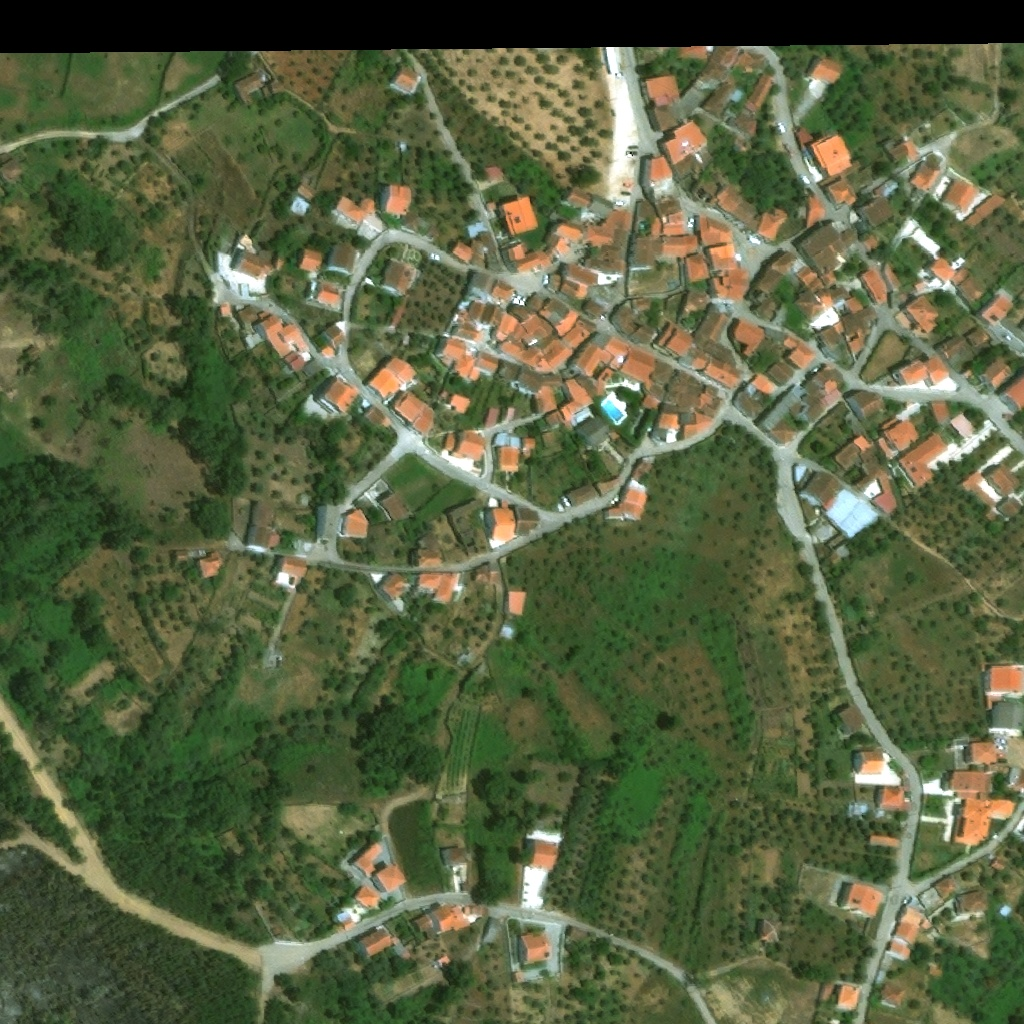0 no-damage: (820, 486, 884, 545), (252, 313, 312, 375), (327, 195, 389, 244), (951, 800, 1015, 847), (802, 133, 862, 183), (895, 433, 946, 490), (689, 310, 736, 369), (792, 225, 841, 278), (853, 460, 900, 515), (658, 120, 709, 168), (752, 388, 803, 436), (795, 467, 847, 514), (669, 77, 716, 127), (730, 374, 777, 421), (495, 195, 541, 241), (893, 295, 940, 340), (978, 664, 1023, 710), (695, 41, 739, 88), (583, 243, 628, 288), (835, 881, 885, 921), (874, 416, 918, 461), (710, 186, 758, 227), (721, 317, 766, 360), (640, 157, 681, 204), (247, 501, 282, 554), (959, 194, 1005, 234), (670, 145, 716, 185), (499, 242, 553, 276), (318, 373, 360, 416), (936, 178, 977, 222), (557, 381, 595, 428), (973, 291, 1015, 331), (228, 248, 276, 283), (701, 355, 744, 393), (513, 928, 555, 966), (852, 195, 895, 232), (585, 211, 632, 244), (982, 462, 1022, 500), (699, 80, 738, 118), (830, 704, 870, 741), (792, 288, 833, 324), (781, 334, 818, 373), (469, 230, 503, 272), (380, 259, 418, 296), (960, 471, 996, 510), (363, 366, 403, 401), (426, 904, 471, 935), (806, 363, 847, 397), (511, 289, 552, 323), (989, 318, 1023, 359), (843, 391, 886, 423), (753, 207, 790, 244), (607, 303, 644, 340), (839, 306, 877, 342), (664, 370, 702, 406), (619, 347, 655, 385), (348, 841, 384, 879), (937, 770, 993, 794), (392, 389, 429, 425), (574, 344, 612, 379), (575, 416, 613, 451), (742, 73, 776, 112), (641, 75, 680, 109), (856, 268, 889, 307), (416, 573, 457, 604), (988, 734, 1023, 770), (979, 356, 1015, 391), (484, 508, 518, 545), (370, 862, 408, 895), (560, 320, 599, 352), (355, 927, 394, 959), (386, 64, 422, 98), (378, 492, 415, 525), (804, 56, 843, 87), (693, 217, 732, 248), (891, 359, 930, 389), (818, 179, 857, 209), (905, 161, 939, 195), (231, 73, 265, 107), (373, 573, 409, 605), (489, 312, 523, 345), (933, 333, 970, 363), (788, 394, 825, 424), (443, 497, 485, 523), (988, 703, 1023, 734), (645, 105, 679, 136), (711, 270, 745, 301), (327, 243, 358, 277), (383, 356, 418, 386), (536, 299, 572, 328), (522, 846, 560, 873), (830, 442, 862, 474), (845, 326, 875, 360), (579, 196, 613, 226), (601, 503, 647, 525), (195, 551, 227, 582), (907, 229, 938, 261), (543, 341, 573, 374), (763, 360, 797, 389), (559, 264, 600, 288), (234, 305, 270, 332), (552, 310, 585, 339), (679, 414, 714, 441), (455, 432, 486, 462), (381, 186, 411, 217), (921, 356, 950, 388), (604, 336, 630, 371), (753, 269, 784, 298), (663, 326, 692, 357), (765, 420, 797, 448), (409, 405, 437, 437), (434, 336, 467, 363), (883, 140, 917, 166), (803, 270, 837, 296), (727, 50, 765, 73), (926, 257, 956, 286), (953, 278, 984, 306), (531, 330, 562, 358), (341, 508, 369, 539), (956, 890, 989, 916), (514, 369, 544, 397), (320, 324, 350, 352), (964, 740, 995, 767), (1001, 373, 1023, 411), (726, 114, 758, 140), (562, 484, 598, 507), (703, 246, 736, 271), (532, 383, 557, 416), (994, 495, 1023, 523), (650, 413, 678, 442), (799, 379, 829, 406), (693, 383, 719, 414), (551, 221, 583, 246), (629, 323, 661, 348), (661, 236, 697, 258), (409, 913, 437, 941), (817, 320, 844, 349), (850, 752, 884, 775), (660, 391, 694, 414), (352, 885, 382, 911), (877, 263, 902, 294), (872, 788, 904, 812), (507, 325, 540, 348), (544, 234, 574, 259), (801, 198, 823, 232), (641, 381, 665, 412), (408, 550, 444, 570), (559, 282, 589, 306), (630, 460, 657, 486), (513, 507, 540, 533), (930, 875, 958, 900), (755, 324, 788, 345), (675, 39, 705, 62), (949, 413, 975, 439), (0, 160, 26, 186), (448, 241, 475, 266), (685, 255, 709, 283), (467, 272, 495, 296), (767, 252, 796, 275), (279, 555, 308, 578), (696, 398, 726, 420), (297, 249, 323, 274), (494, 360, 521, 384), (580, 298, 607, 322), (896, 906, 924, 929), (496, 447, 519, 475), (632, 203, 654, 232), (892, 922, 918, 946), (962, 326, 988, 350), (499, 337, 526, 360), (593, 477, 622, 498), (439, 846, 468, 867), (489, 279, 514, 303), (753, 298, 779, 321), (454, 323, 483, 343), (519, 346, 543, 370), (886, 941, 911, 964), (834, 985, 857, 1010), (792, 266, 818, 288), (474, 353, 500, 375), (530, 321, 554, 344), (293, 183, 317, 206), (758, 920, 781, 944), (621, 489, 650, 508), (651, 362, 673, 387), (520, 312, 545, 334), (880, 985, 905, 1007), (826, 544, 851, 566), (681, 291, 708, 311), (314, 282, 338, 304), (865, 835, 900, 850), (654, 200, 683, 218), (565, 190, 591, 210), (634, 239, 653, 266), (1002, 768, 1023, 792), (454, 355, 474, 380), (363, 405, 385, 427), (851, 435, 874, 456), (483, 917, 499, 946), (688, 350, 709, 372), (754, 337, 775, 359), (450, 394, 471, 416), (736, 104, 761, 122), (947, 269, 968, 290), (810, 411, 832, 431), (815, 981, 833, 1005), (543, 373, 562, 395), (480, 304, 499, 326), (654, 323, 672, 346), (842, 297, 863, 316), (650, 216, 668, 238), (827, 283, 845, 305), (662, 213, 688, 228), (379, 42, 400, 60), (930, 403, 949, 422), (290, 198, 309, 217), (792, 128, 812, 146), (827, 401, 847, 419), (595, 367, 615, 385), (468, 301, 485, 322), (521, 438, 535, 462), (545, 410, 563, 428), (434, 953, 452, 971), (859, 238, 878, 255), (613, 230, 629, 250), (661, 227, 690, 238), (483, 167, 500, 185), (332, 908, 350, 925), (744, 215, 760, 234), (631, 299, 652, 313), (959, 364, 977, 380), (471, 568, 490, 583), (268, 82, 285, 98), (441, 433, 455, 452), (996, 903, 1012, 919), (541, 431, 555, 449), (719, 39, 740, 50), (470, 905, 488, 917), (340, 918, 356, 931), (989, 859, 1005, 871), (985, 511, 999, 524), (910, 282, 925, 294), (679, 414, 694, 426), (485, 496, 498, 508), (1015, 772, 1023, 788), (926, 970, 939, 977), (514, 973, 524, 982), (462, 311, 470, 321), (464, 905, 470, 914)
4 un-classified: (636, 40, 670, 55), (472, 153, 485, 166)
